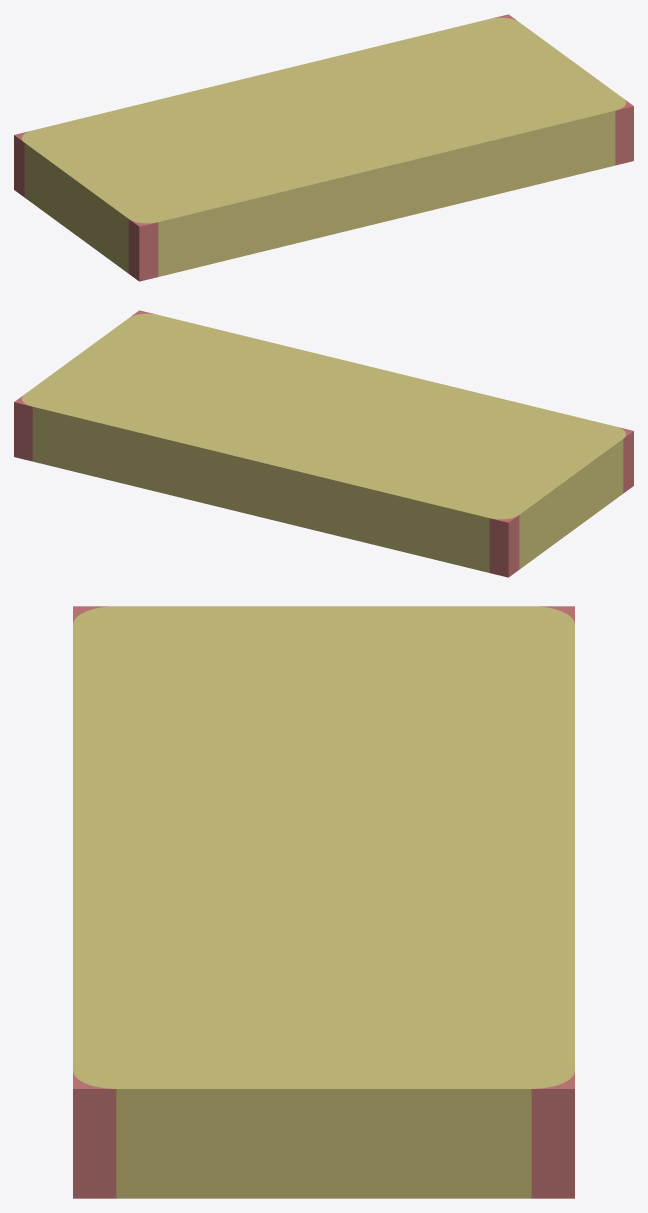
The model's file is step_02.glb.
The picture shows the model from 3 angles, top to bottom: view 1: azimuth 30°, elevation 25°; view 2: azimuth 150°, elevation 25°; view 3: azimuth 270°, elevation 25°; orthographic projection. The views are drawn at different scales.
Visible parts, largest first — view 1: part__base, removed__base; view 2: part__base, removed__base; view 3: part__base, removed__base.
Boxes of the visible parts, <box> form: part__base: <box>22,17,625,276</box>; removed__base: <box>14,14,633,281</box>; part__base: <box>22,313,625,572</box>; removed__base: <box>14,310,633,577</box>; part__base: <box>73,606,574,1198</box>; removed__base: <box>73,606,574,1198</box>.
Size of the model in its own units: 132 by 14 by 58.
